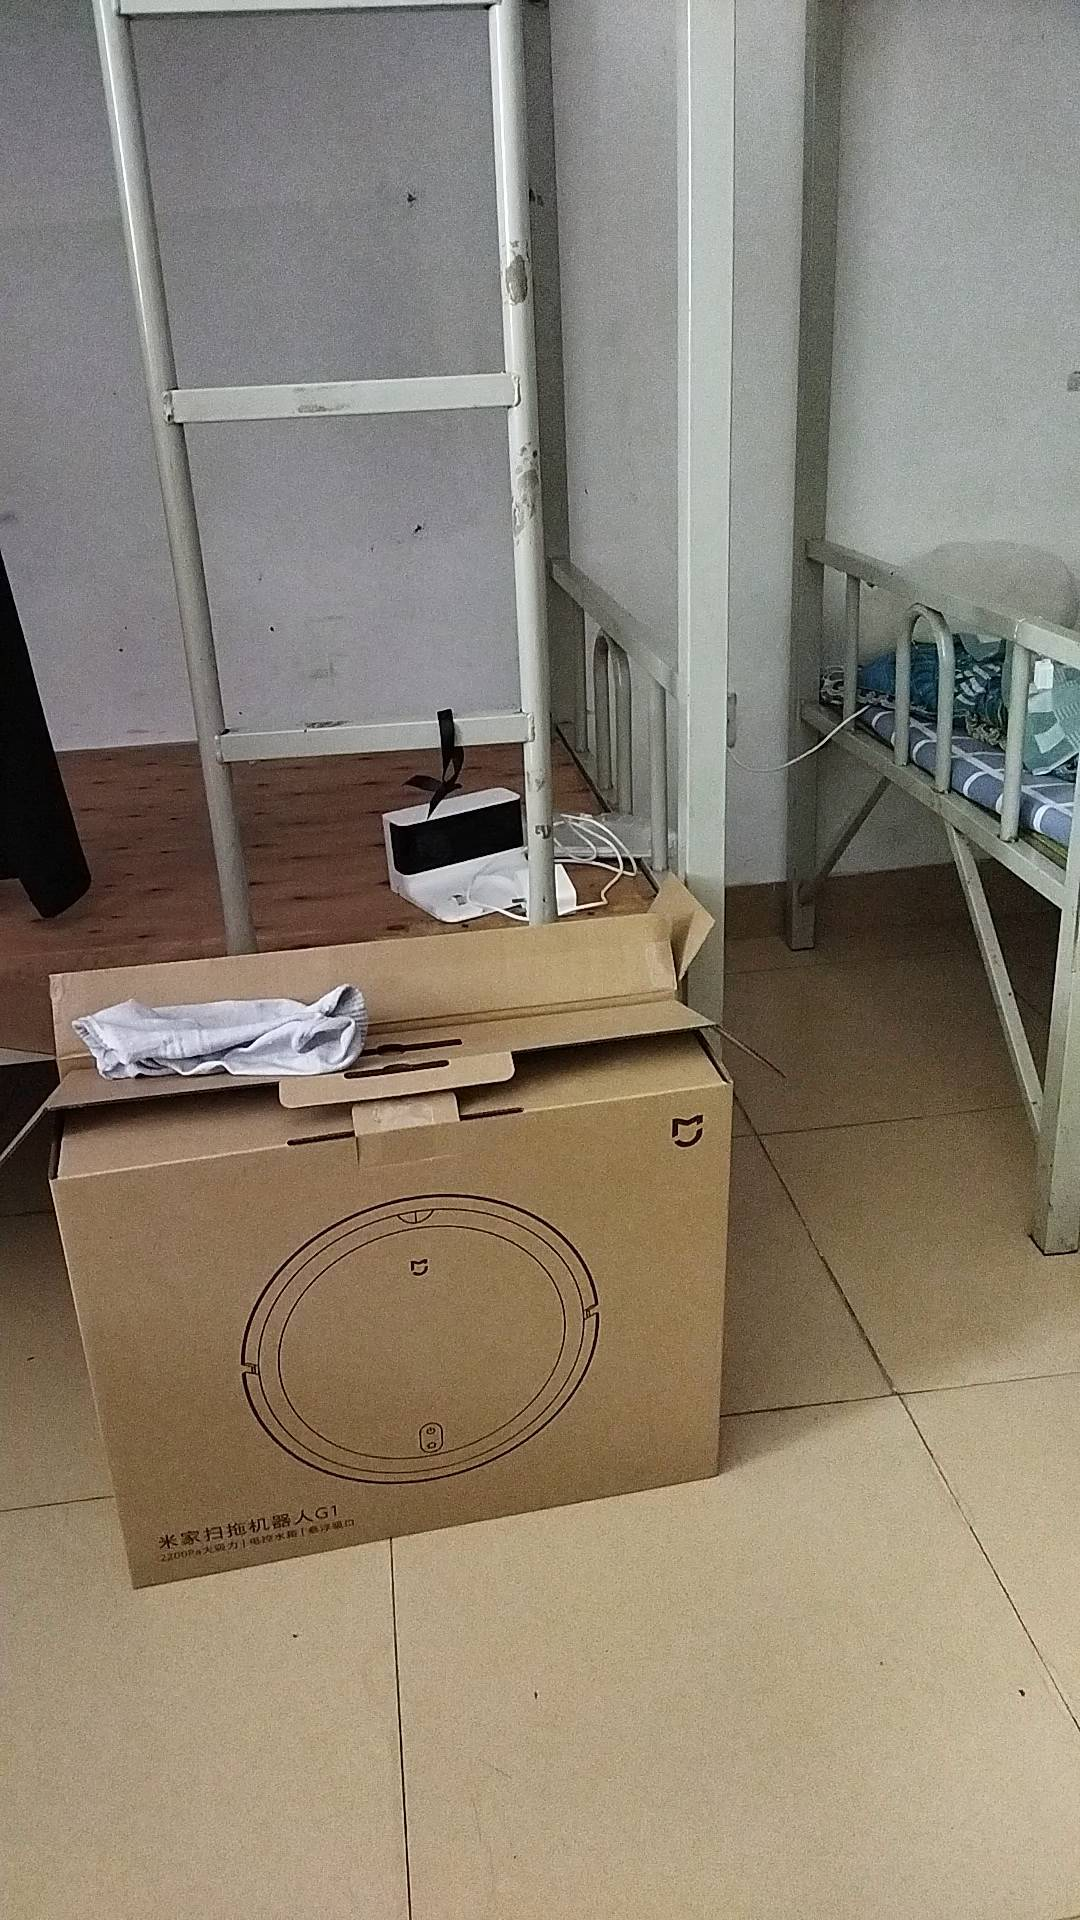recharge seat: (384, 786, 527, 920)
